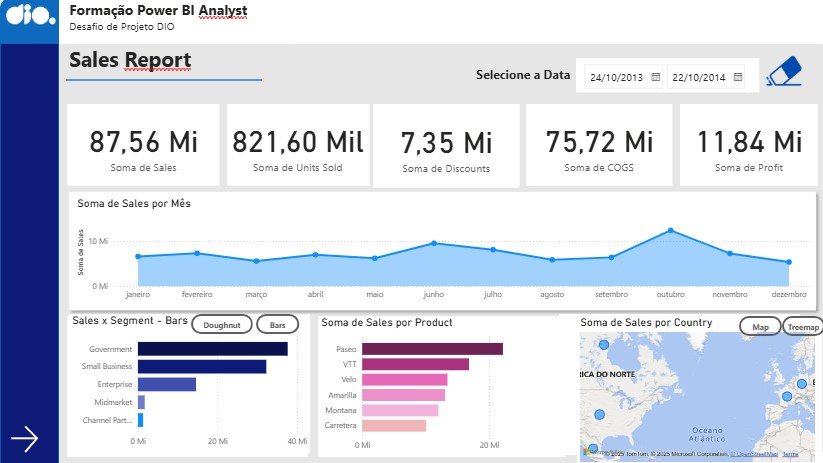

The dashboard page shown, as its layout file describes it:
{"tool":"powerbi","page":{"name":"Página 1","canvas":[1280,720],"ordinal":0},"visuals":[{"type":"shape","box":[10.8,0,1269.2,720],"z":0},{"type":"image","title":"Clean","box":[1173.6,82,86.3,64.4],"z":0,"group":"g2"},{"type":"shape","box":[112.1,97.9,301.5,58.5],"z":0,"group":"g5"},{"type":"shape","box":[114.1,163.9,233.5,126],"z":0,"group":"g1"},{"type":"clusteredBarChart","title":" Sales x Segment - Bars","fields":{"Category":["financials.Segment"],"Y":["Sum(financials.Sales)"]},"box":[115.4,490.7,370.8,214.5],"z":0,"group":"g4"},{"type":"treemap","title":"Soma de Sales por Country","fields":{"Group":["financials.Country"],"Values":["Sum(financials.Sales)"]},"box":[899.3,501.9,371.2,208.9],"z":0,"group":"g3"},{"type":"shape","box":[10.1,0,90.7,720.6],"z":1000},{"type":"textbox","box":[112,67,284.6,80],"z":1000,"group":"g5"},{"type":"slicer","fields":{"Values":["financials.Date"]},"box":[895.6,93.7,282.4,52.7],"z":1000,"group":"g2"},{"type":"shape","box":[361,163.9,218.4,126],"z":1000,"group":"g1"},{"type":"donutChart","title":"Sales x Segment - Thread","fields":{"Y":["Sum(financials.Sales)"],"Category":["financials.Segment"]},"box":[117.1,490.7,372.6,210.9],"z":1000,"group":"g4"},{"type":"textbox","box":[734.6,102.5,161,43.9],"z":2000,"group":"g2"},{"type":"shape","box":[592.8,163.9,218.4,126],"z":2000,"group":"g1"},{"type":"actionButton","title":"Botão - doughnut","box":[334.8,490.2,89.2,30.8],"z":2000,"group":"g4"},{"type":"actionButton","title":"Botão - treemap","box":[1213.8,491.4,66.2,28.7],"z":2000,"group":"g3"},{"type":"treemap","title":"Soma de Sales por Country","fields":{"Group":["financials.Country"],"Values":["Sum(financials.Sales)"]},"box":[904.6,496.9,370.8,216.9],"z":2000},{"type":"shape","box":[10.1,0,90.7,72.2],"z":3000},{"type":"actionButton","box":[1173.6,82,99.5,64.4],"z":3000,"group":"g2"},{"type":"shape","box":[826.3,163.9,218.4,126],"z":3000,"group":"g1"},{"type":"actionButton","title":"Botão - map","box":[1147.6,491.4,66.2,28.7],"z":3000,"group":"g3"},{"type":"actionButton","title":"Botão - Bars","box":[427.1,491.7,55.4,30.8],"z":3000,"group":"g4"},{"type":"image","box":[15.1,0,85.7,52.1],"z":4000},{"type":"shape","box":[1056.5,163.9,211.7,126],"z":4000,"group":"g1"},{"type":"shape","box":[100.8,0,1179.2,72.2],"z":5000},{"type":"textbox","box":[112.7,0,345.1,72.2],"z":6000},{"type":"group","id":"g1","title":"Cartões","box":[114.1,163.9,1154.6,125.9],"z":7000},{"type":"shape","box":[107.7,290.5,1167.2,199.9],"z":8000},{"type":"shape","box":[114.5,490.5,370.8,217],"z":9000},{"type":"shape","box":[500.7,490.5,381.1,217],"z":10000},{"type":"card","fields":{"Values":["Sum(financials.Sales)"]},"box":[115.6,163.9,232.7,125.9],"z":12000},{"type":"card","fields":{"Values":["Sum(financials.Units Sold)"]},"box":[360,163.9,218,125.9],"z":13000},{"type":"card","fields":{"Values":["Sum(financials.Discounts)"]},"box":[585.4,163.9,225.4,128.8],"z":14000},{"type":"card","fields":{"Values":["Sum(financials.COGS)"]},"box":[819.5,165.4,225.4,125.9],"z":15000},{"type":"card","fields":{"Values":["Sum(financials.Profit)"]},"box":[1056.6,163.9,212.2,125.9],"z":16000},{"type":"clusteredBarChart","fields":{"Y":["Sum(financials.Sales)"],"Category":["financials.Product"]},"box":[500,490.8,370.8,216.9],"z":17000},{"type":"areaChart","fields":{"Category":["financials.Date.Variation.Hierarquia de datas.Mês"],"Y":["Sum(financials.Sales)"]},"box":[124.8,307.6,1141.6,167.5],"z":18000},{"type":"group","id":"g2","title":"Filtro por data","box":[734.6,82,538.5,64.4],"z":19000},{"type":"group","id":"g3","title":"Sales x país","box":[898.5,490.8,381.5,220],"z":20000},{"type":"group","id":"g4","title":"Sales x Segmento","box":[115.4,490.2,374.3,215],"z":21000},{"type":"group","id":"g5","title":"Title report","box":[112,67,301.6,89.4],"z":22000},{"type":"actionButton","box":[22.2,654.5,71.8,53],"z":23000}]}

Visuals, with their boxes in screenshot pixels (x1, y1, x2, y2), scaled from the page's 1280x720 canvas onto the 823x463 screenshot:
shape: pyautogui.locateOnScreen(7, 0, 822, 462)
"Clean" image: pyautogui.locateOnScreen(755, 53, 810, 94)
shape: pyautogui.locateOnScreen(72, 63, 266, 101)
shape: pyautogui.locateOnScreen(73, 105, 223, 186)
" Sales x Segment - Bars" clusteredBarChart: pyautogui.locateOnScreen(74, 316, 313, 453)
"Soma de Sales por Country" treemap: pyautogui.locateOnScreen(578, 323, 817, 457)
shape: pyautogui.locateOnScreen(6, 0, 65, 462)
textbox: pyautogui.locateOnScreen(72, 43, 255, 95)
slicer - financials.Date: pyautogui.locateOnScreen(576, 60, 757, 94)
shape: pyautogui.locateOnScreen(232, 105, 373, 186)
"Sales x Segment - Thread" donutChart: pyautogui.locateOnScreen(75, 316, 315, 451)
textbox: pyautogui.locateOnScreen(472, 66, 576, 94)
shape: pyautogui.locateOnScreen(381, 105, 522, 186)
"Botão - doughnut" actionButton: pyautogui.locateOnScreen(215, 315, 273, 335)
"Botão - treemap" actionButton: pyautogui.locateOnScreen(780, 316, 822, 334)
"Soma de Sales por Country" treemap: pyautogui.locateOnScreen(582, 320, 820, 459)
shape: pyautogui.locateOnScreen(6, 0, 65, 46)
actionButton: pyautogui.locateOnScreen(755, 53, 819, 94)
shape: pyautogui.locateOnScreen(531, 105, 672, 186)
"Botão - map" actionButton: pyautogui.locateOnScreen(738, 316, 780, 334)
"Botão - Bars" actionButton: pyautogui.locateOnScreen(275, 316, 310, 336)
image: pyautogui.locateOnScreen(10, 0, 65, 34)
shape: pyautogui.locateOnScreen(679, 105, 815, 186)
shape: pyautogui.locateOnScreen(65, 0, 822, 46)
textbox: pyautogui.locateOnScreen(72, 0, 294, 46)
"Cartões" group: pyautogui.locateOnScreen(73, 105, 816, 186)
shape: pyautogui.locateOnScreen(69, 187, 820, 315)
shape: pyautogui.locateOnScreen(74, 315, 312, 455)
shape: pyautogui.locateOnScreen(322, 315, 567, 455)
card - Sum(financials.Sales): pyautogui.locateOnScreen(74, 105, 224, 186)
card - Sum(financials.Units Sold): pyautogui.locateOnScreen(231, 105, 372, 186)
card - Sum(financials.Discounts): pyautogui.locateOnScreen(376, 105, 521, 188)
card - Sum(financials.COGS): pyautogui.locateOnScreen(527, 106, 672, 187)
card - Sum(financials.Profit): pyautogui.locateOnScreen(679, 105, 816, 186)
clusteredBarChart - Sum(financials.Sales) x financials.Product: pyautogui.locateOnScreen(321, 316, 560, 455)
areaChart - financials.Date.Variation.Hierarquia de datas.Mês x Sum(financials.Sales): pyautogui.locateOnScreen(80, 198, 814, 306)
"Filtro por data" group: pyautogui.locateOnScreen(472, 53, 819, 94)
"Sales x país" group: pyautogui.locateOnScreen(578, 316, 822, 457)
"Sales x Segmento" group: pyautogui.locateOnScreen(74, 315, 315, 453)
"Title report" group: pyautogui.locateOnScreen(72, 43, 266, 101)
actionButton: pyautogui.locateOnScreen(14, 421, 60, 455)
